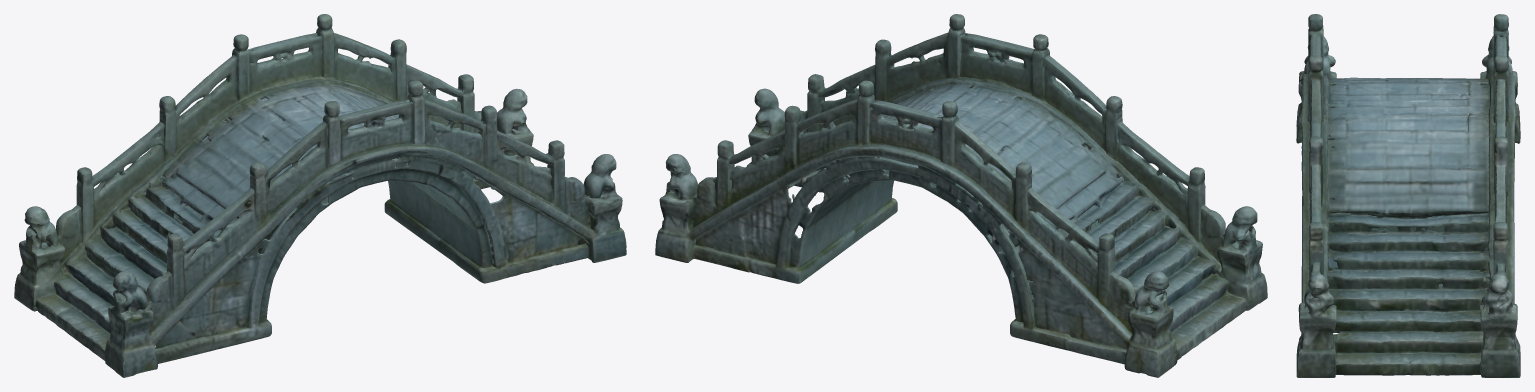
File: stone-bridge-v2.glb
The picture shows the model from 3 angles, left to right: view 1: azimuth 30°, elevation 25°; view 2: azimuth 150°, elevation 25°; view 3: azimuth 270°, elevation 25°; orthographic projection. The views are drawn at different scales.
Visible parts, largest first — view 1: geometry_0; view 2: geometry_0; view 3: geometry_0.
Boxes of the visible parts, x1,y1,x2,y2 form: geometry_0: (14, 14, 626, 377); geometry_0: (655, 14, 1267, 377); geometry_0: (1296, 14, 1520, 377).
Size of the model in its own units: 3 by 1.23 by 1.13.
Materials: 1 (1 with a texture image).
